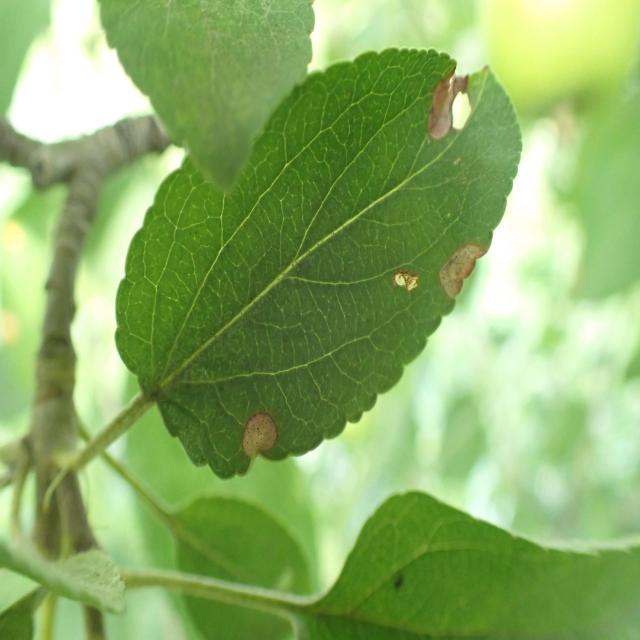Black Rot: (422, 29, 476, 163), (440, 239, 486, 325), (238, 402, 286, 484), (376, 261, 426, 312)
